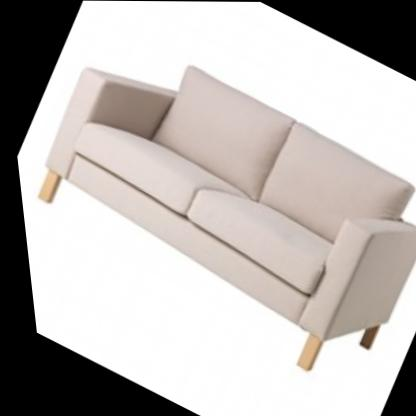Sofa: (1, 7, 416, 402)
